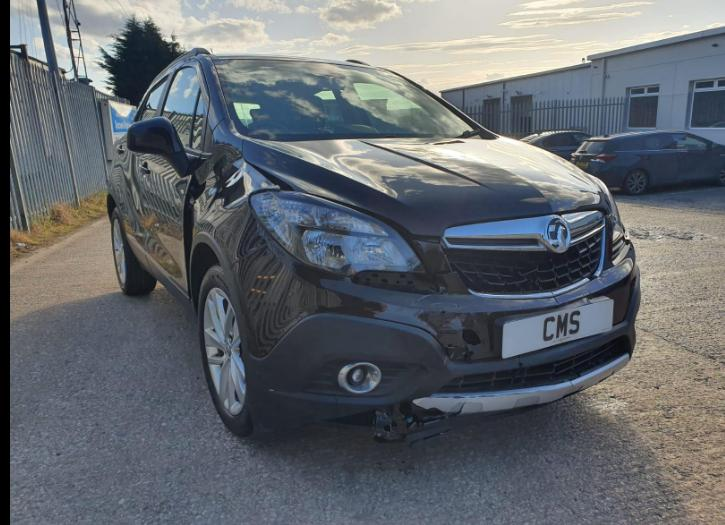Back-bumper: (106, 186, 122, 215)
Back-door: (110, 141, 149, 266), (136, 69, 171, 122)
Back-wheel: (111, 207, 156, 295)
Back-window: (141, 80, 166, 120)
Fender: (186, 119, 280, 268)
Front-bumper: (189, 213, 640, 445)
Front-door: (136, 61, 209, 295)
Front-wheel: (198, 263, 253, 436)
Front-window: (161, 69, 204, 151)
Grille: (443, 210, 604, 295)
Headlight: (252, 189, 426, 276), (586, 173, 621, 224)
Hood: (242, 132, 612, 235)
License-plate: (499, 297, 612, 358)
Mirror: (127, 116, 192, 176)
Rocker-panel: (131, 245, 196, 316)
Roof: (207, 55, 379, 68)
Windshield: (215, 60, 480, 141)
